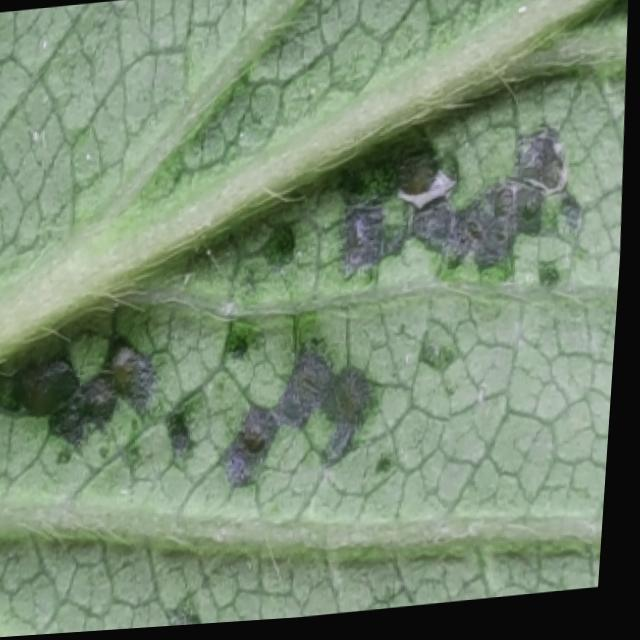Angular Leafspot: (0, 97, 625, 629)
